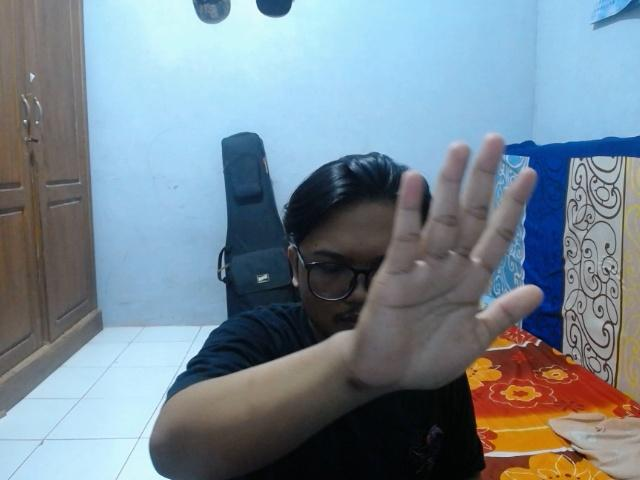Release: (348, 127, 546, 396)
